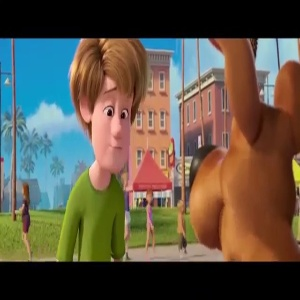Shagy: (67, 35, 158, 166)
